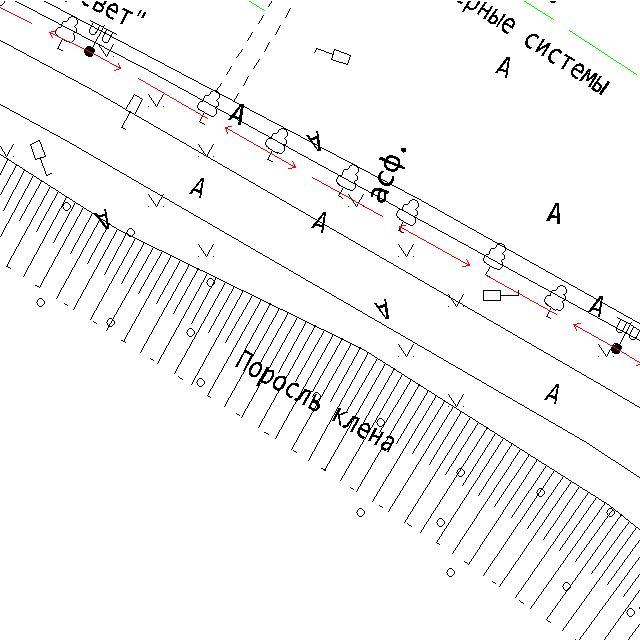asphalt: (368, 144, 408, 204), (89, 207, 112, 232), (304, 127, 324, 154), (186, 174, 206, 201), (226, 101, 247, 126), (493, 53, 513, 79), (543, 200, 563, 226), (586, 293, 606, 319), (542, 381, 562, 406), (372, 298, 392, 322), (309, 210, 328, 234)
sing: (118, 91, 146, 132), (28, 138, 56, 179), (312, 42, 352, 68), (481, 286, 522, 306)
tree: (394, 197, 424, 234), (52, 13, 80, 52), (194, 88, 221, 128), (542, 283, 569, 321), (482, 241, 508, 280), (264, 126, 290, 164), (335, 163, 360, 200)
